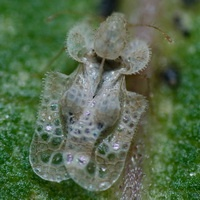insect: (30, 13, 151, 190)
